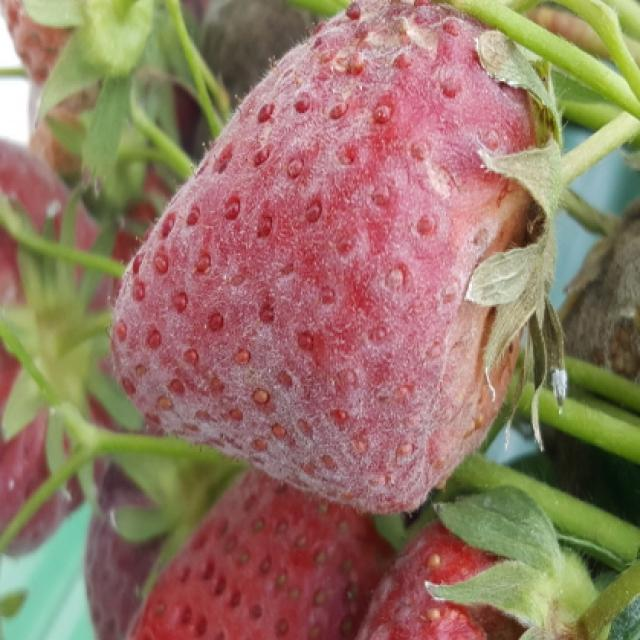Powdery Mildew Fruit: (105, 0, 560, 518), (357, 503, 585, 638)
